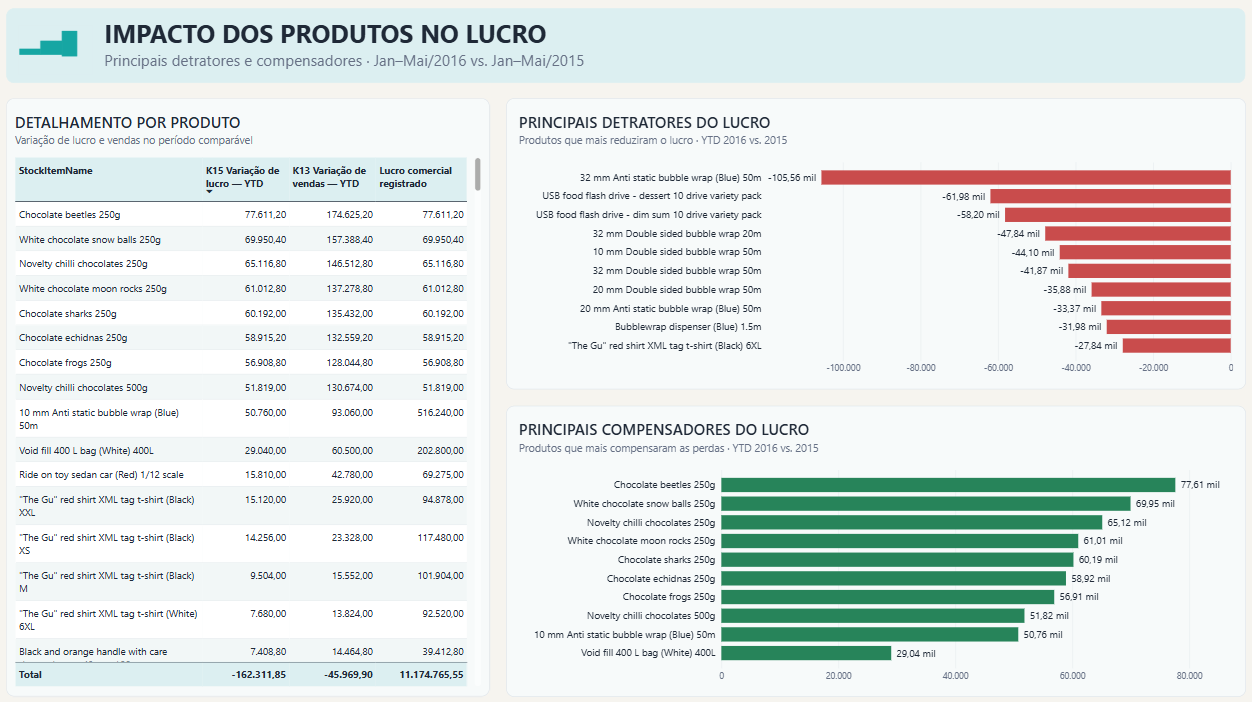

Layout of this report page (visuals, bound fields, positions):
{"tool":"powerbi","page":{"name":"02_Q02_Produtos","canvas":[1920,1080],"ordinal":2},"visuals":[{"type":"tableEx","title":"DETALHAMENTO POR PRODUTO","fields":{"Values":["DimProduct.StockItemName","_Medidas.K15 Variação de lucro — YTD","_Medidas.K13 Variação de vendas — YTD","_Medidas.Lucro comercial registrado"]},"box":[32,152,724,896],"z":0},{"type":"clusteredBarChart","title":"PRINCIPAIS DETRATORES DO LUCRO","fields":{"Category":["DimProduct.StockItemName"],"Y":["_Medidas.K15 Variação de lucro — YTD"]},"box":[780,152,1108,436],"z":1000},{"type":"clusteredBarChart","title":"PRINCIPAIS COMPENSADORES DO LUCRO","fields":{"Category":["DimProduct.StockItemName"],"Y":["_Medidas.K15 Variação de lucro — YTD"]},"box":[780,612,1108,436],"z":2000},{"type":"textbox","box":[32,16,1856,112],"z":10000},{"type":"textbox","box":[50.6,43.1,110.5,73],"z":11000}]}

Visuals, with their boxes in screenshot pixels (x1, y1, x2, y2), scaled from the page's 1920x1080 canvas onto the 1252x702 screenshot:
"DETALHAMENTO POR PRODUTO" tableEx: {"x1": 21, "y1": 99, "x2": 493, "y2": 681}
"PRINCIPAIS DETRATORES DO LUCRO" clusteredBarChart: {"x1": 509, "y1": 99, "x2": 1231, "y2": 382}
"PRINCIPAIS COMPENSADORES DO LUCRO" clusteredBarChart: {"x1": 509, "y1": 398, "x2": 1231, "y2": 681}
textbox: {"x1": 21, "y1": 10, "x2": 1231, "y2": 83}
textbox: {"x1": 33, "y1": 28, "x2": 105, "y2": 75}
